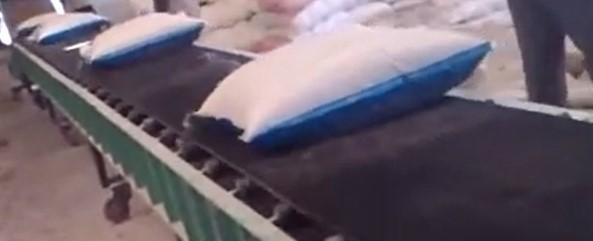rice-bag: (195, 25, 490, 147), (78, 13, 204, 66), (31, 12, 109, 44), (16, 13, 59, 35)
